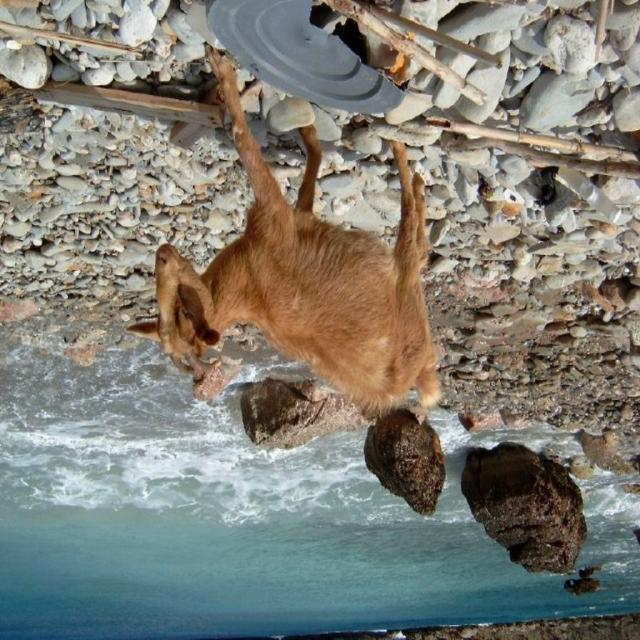Goat: (125, 44, 443, 420)
